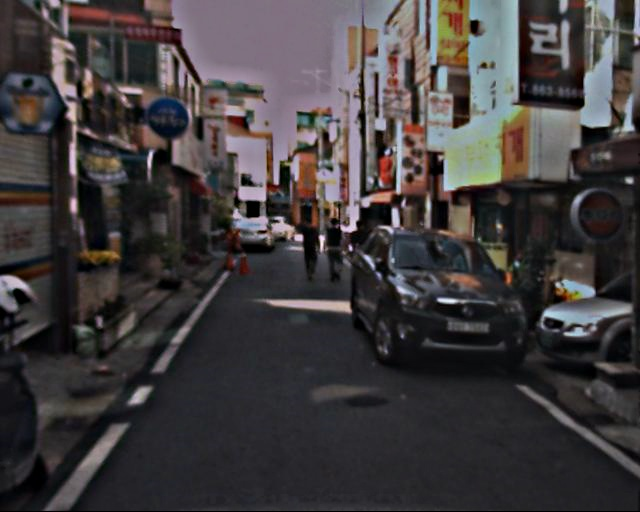person: (321, 215, 348, 282), (297, 218, 324, 283), (346, 220, 371, 282)
